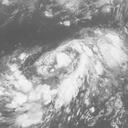cyclone: (35, 38, 94, 86)
